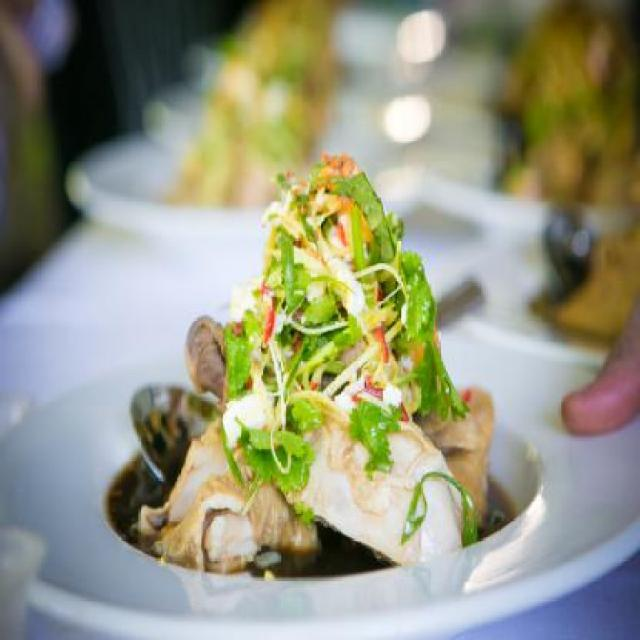Salad: (217, 146, 483, 548)
